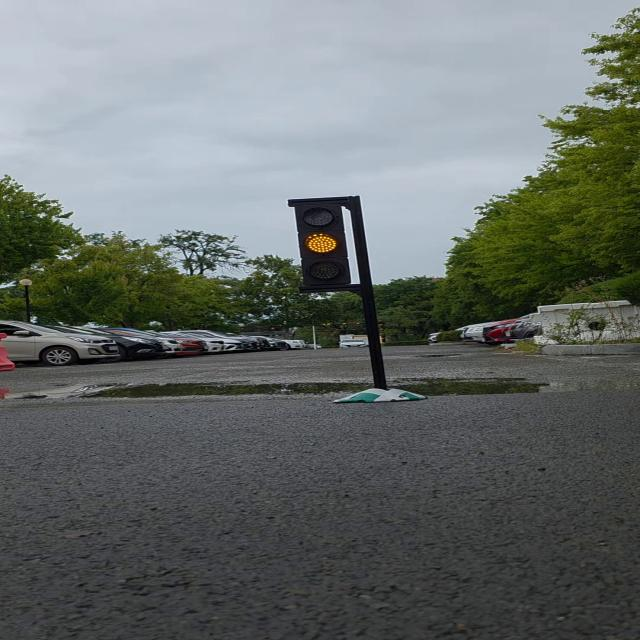yellow: (289, 199, 364, 289)
